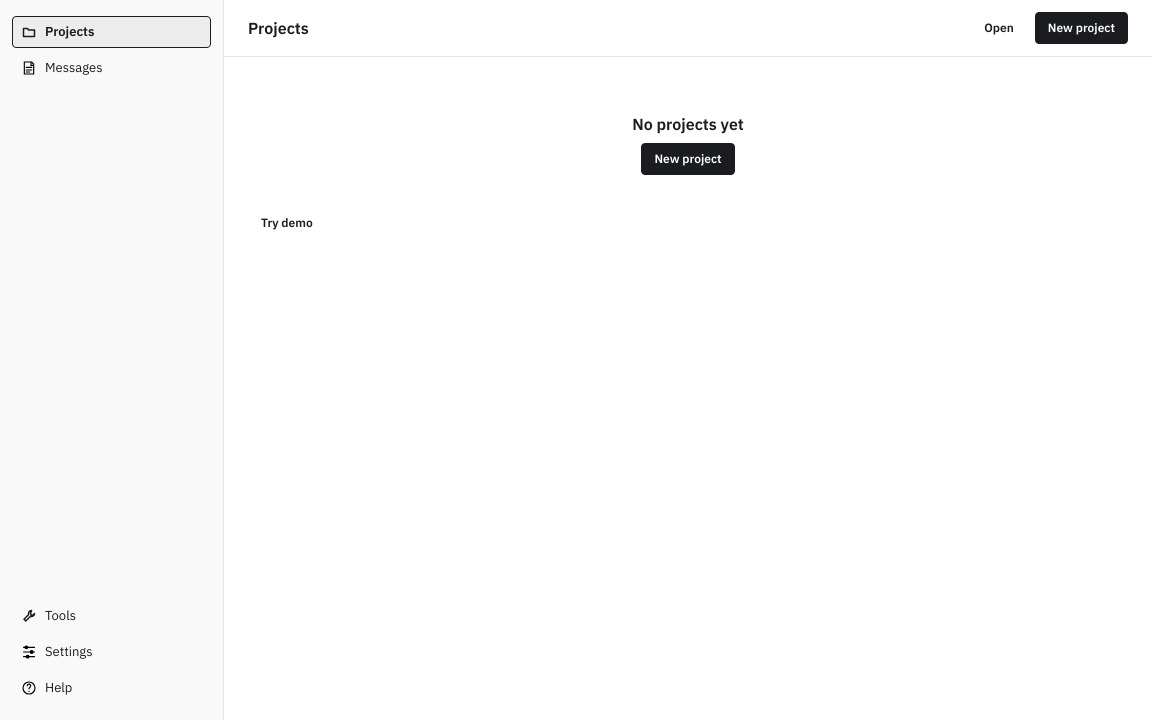
Test: save copy writes a byte-identical new file through the native save dialog and a refused copy says why
The width and height of the screenshot is (1152, 720).
Expected: the navigation bar named "Main" is shown, [0,0,224,719]
What coordinates should you click on to do the following:
click the button "Tools"
I would click on:
 (112, 616)
Its box is [12,600,211,632].
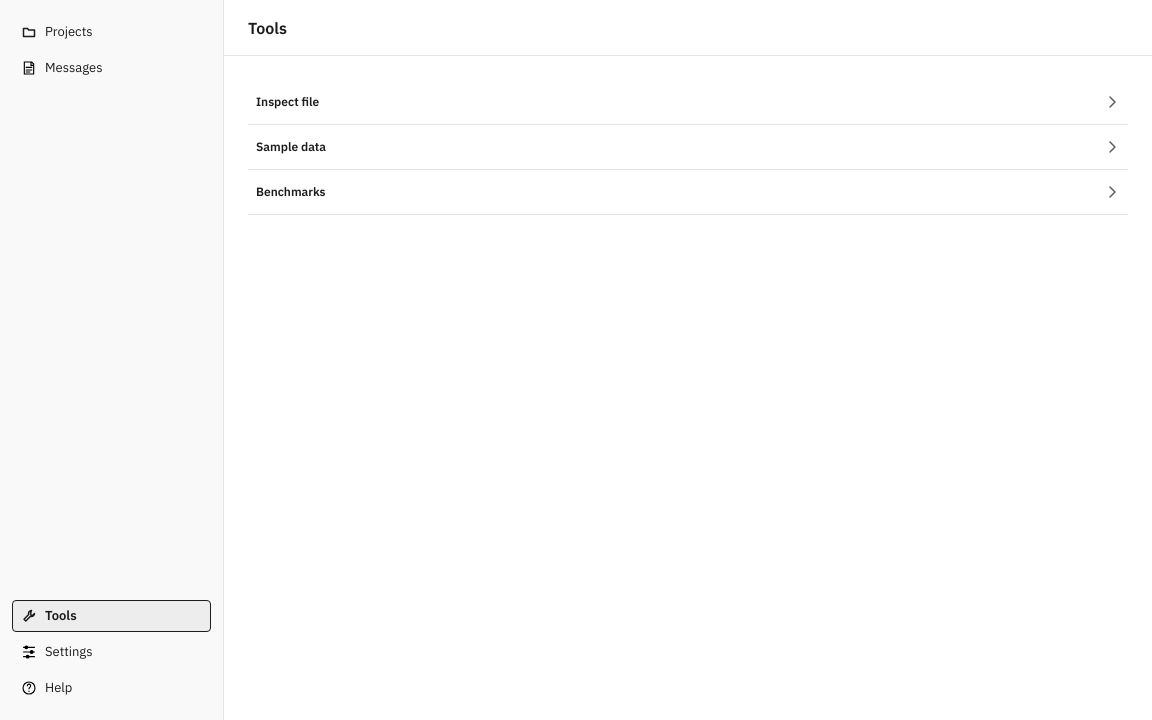
What coordinates should you click on to do the following:
click the button "Inspect file"
I would click on:
 (288, 102)
Its box is [248,80,1128,124].
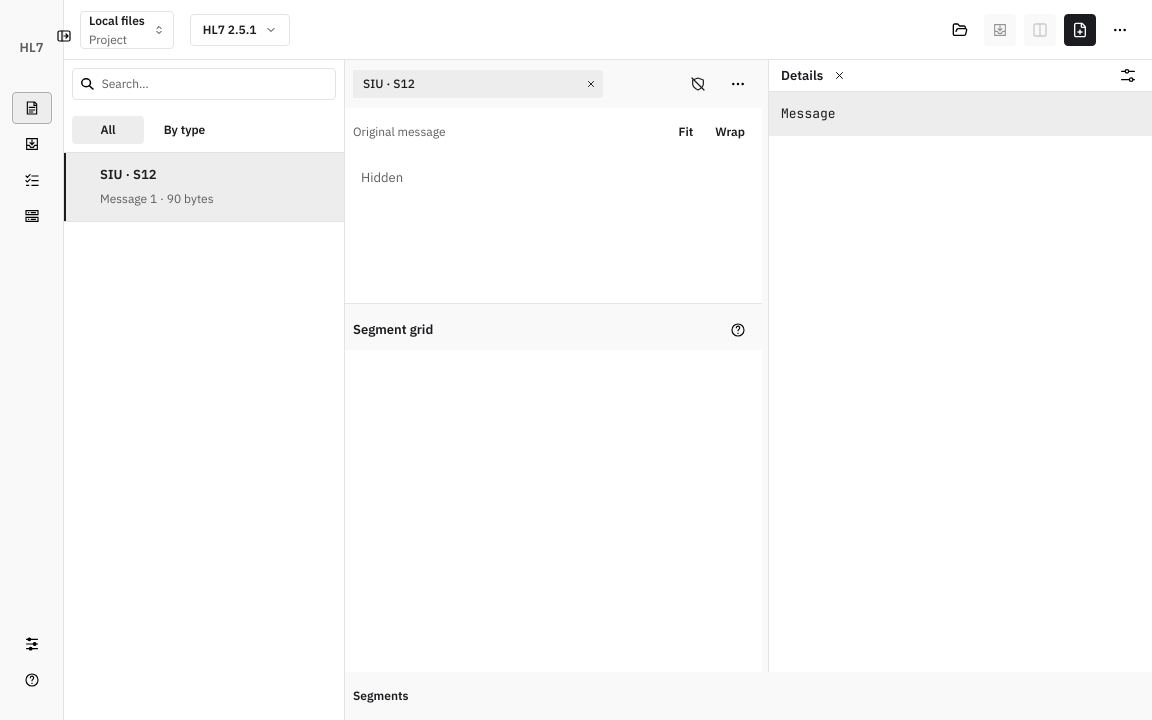
Result: the element named "Message details" is shown
What coordinates should you click on to do the following:
click the button named "More file actions"
I would click on:
 (1120, 30)
Its box is [1104,14,1136,46].
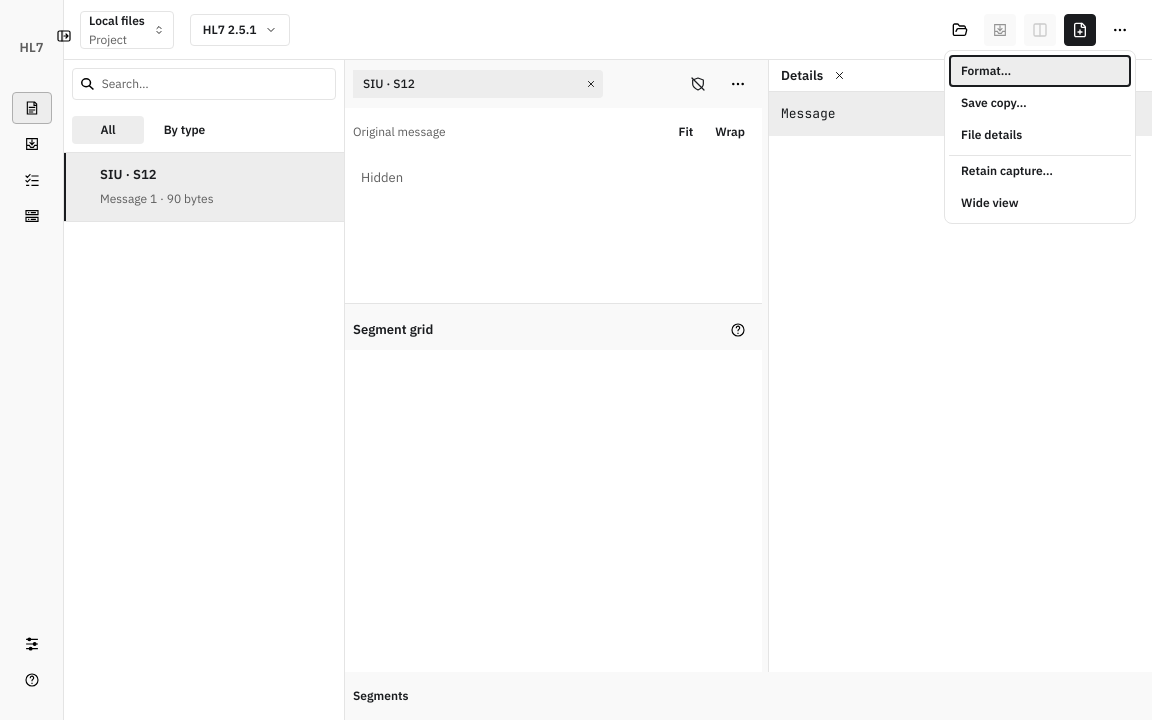
What coordinates should you click on to do the following:
click the menu item "Save copy…"
I would click on:
 (1040, 102)
Its box is [949,86,1131,118].
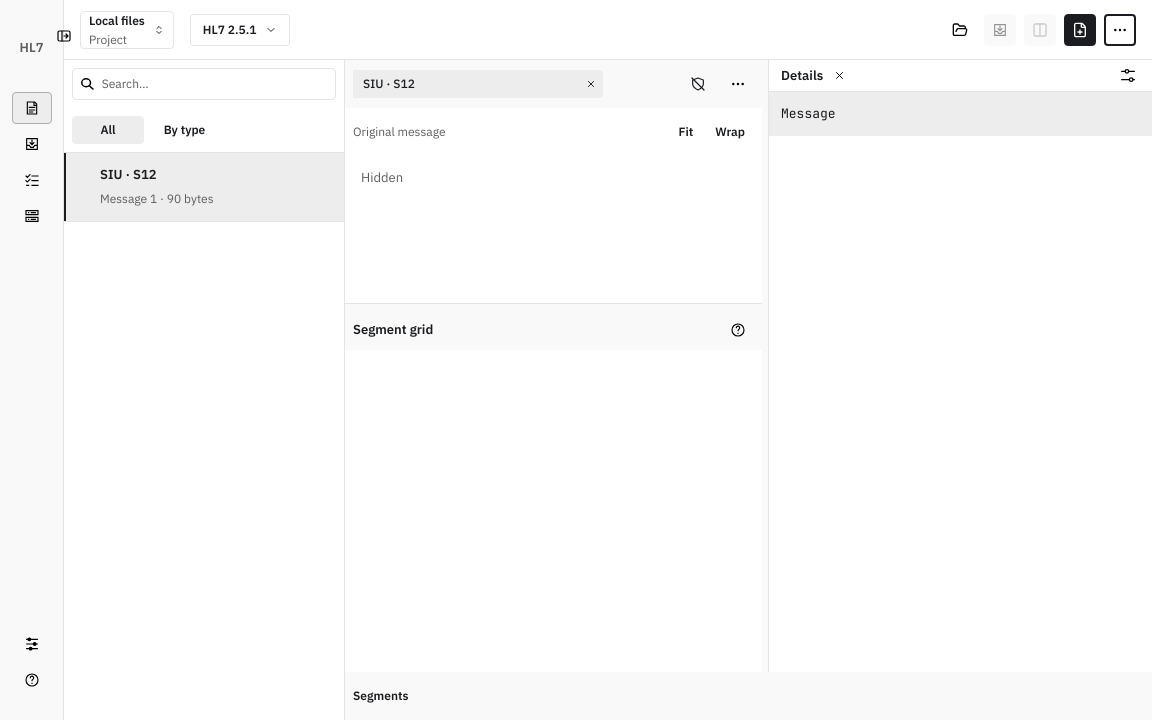
What coordinates should you click on to do the following:
click the button named "More file actions"
I would click on:
 (1120, 30)
Its box is [1104,14,1136,46].
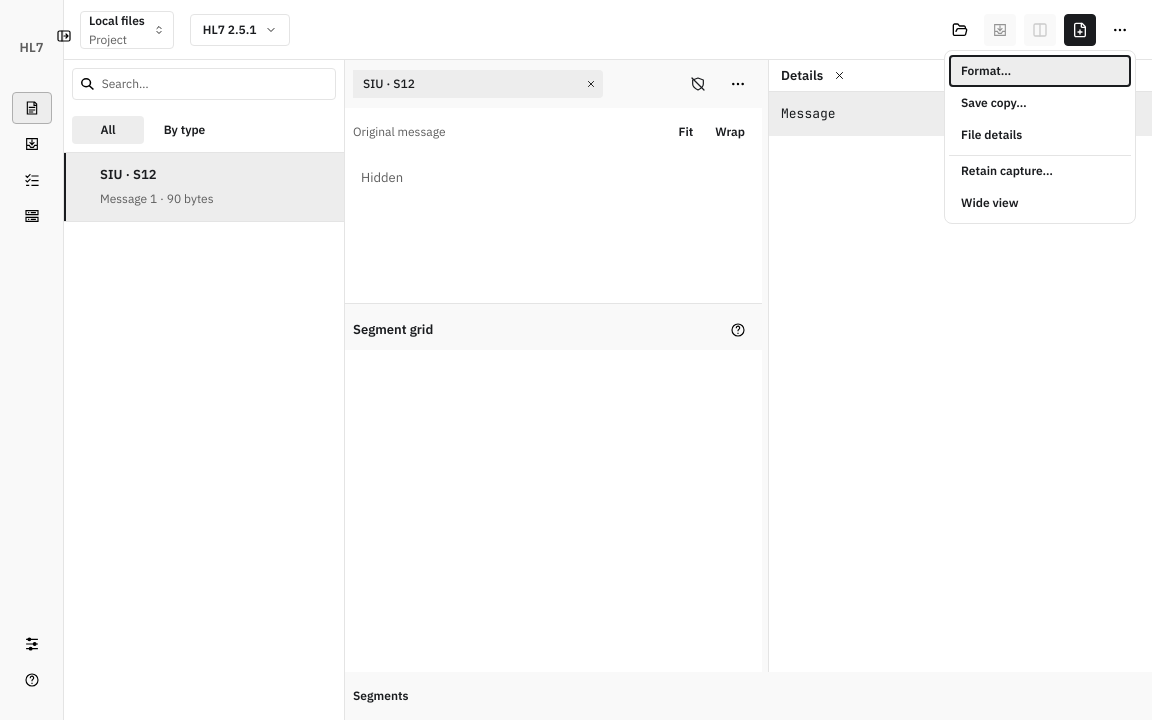
What coordinates should you click on to do the following:
click the menu item "Save copy…"
I would click on:
 (1040, 102)
Its box is [949,86,1131,118].
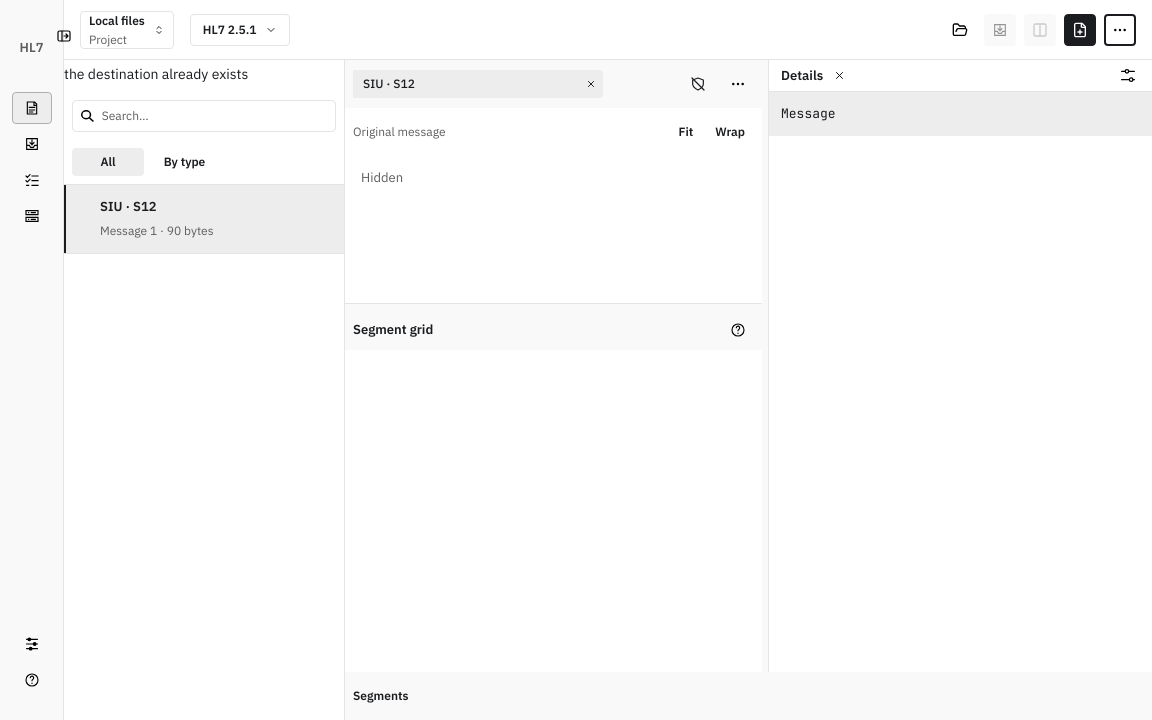
Result: the message reads "the destination already exists" at [64,65,248,83]
